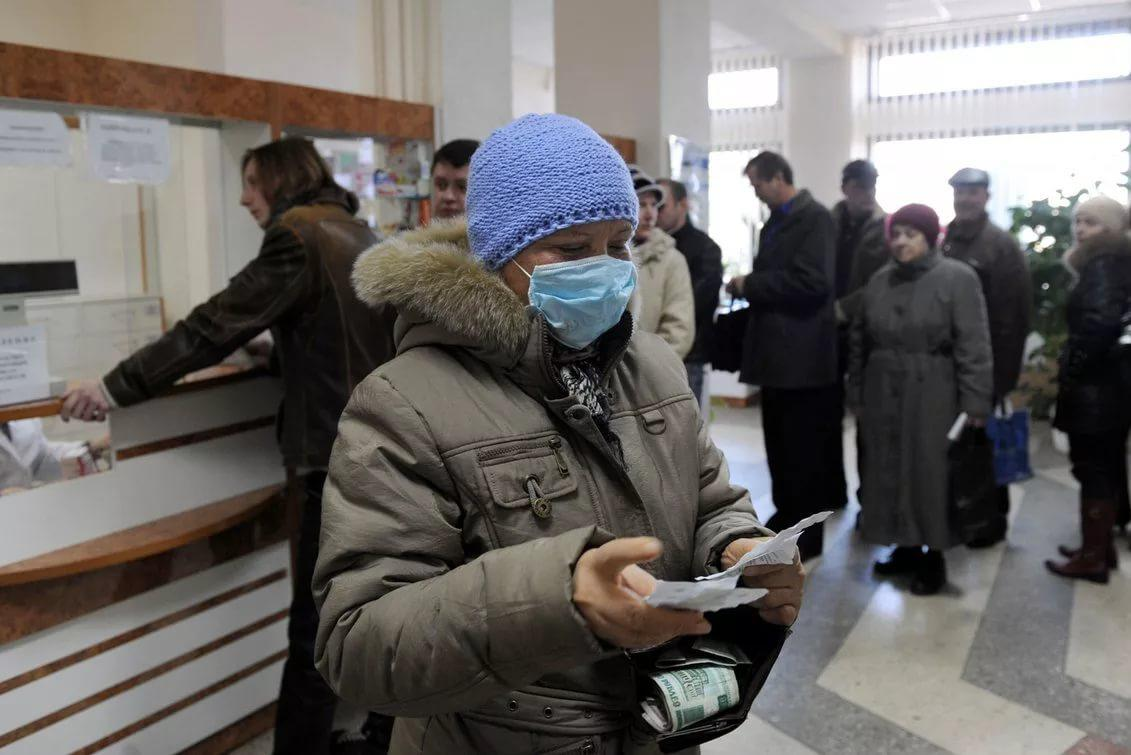mask: (517, 202, 635, 349)
none: (432, 153, 487, 228), (234, 153, 282, 233), (746, 163, 793, 204), (888, 219, 925, 266), (639, 185, 661, 235)
